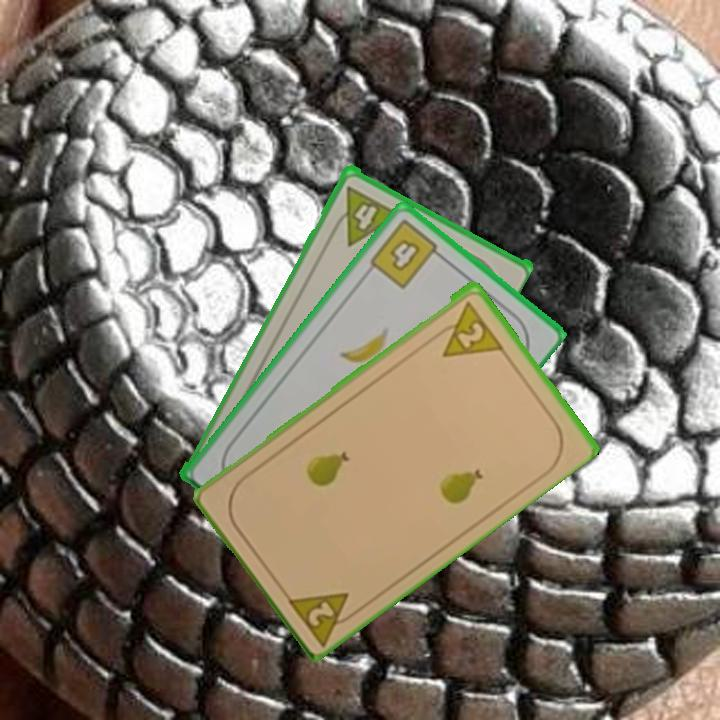2p: (282, 587, 365, 647), (429, 295, 505, 360)
4b: (365, 215, 448, 292)
4p: (326, 182, 402, 248)
